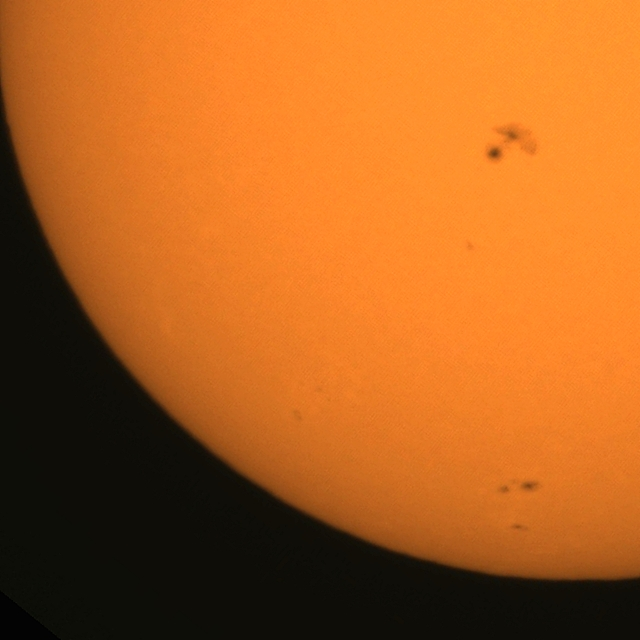sunspot: (485, 123, 540, 163), (497, 478, 542, 496), (497, 483, 512, 496), (465, 241, 475, 252)
